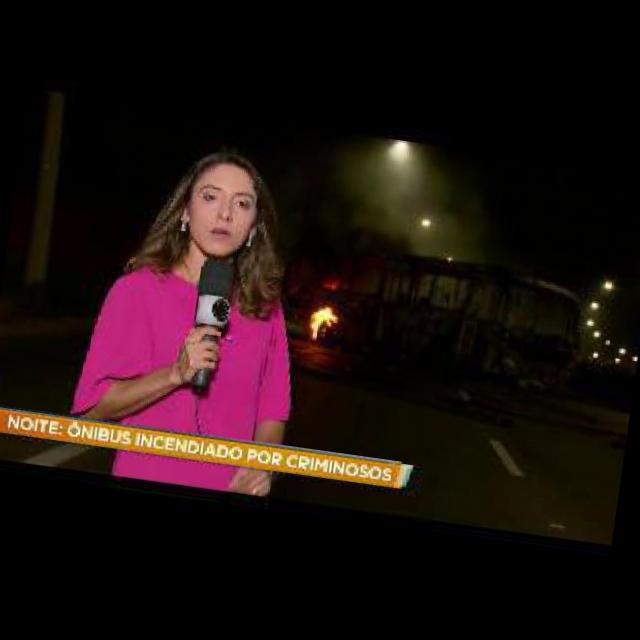fire: (302, 301, 342, 344)
